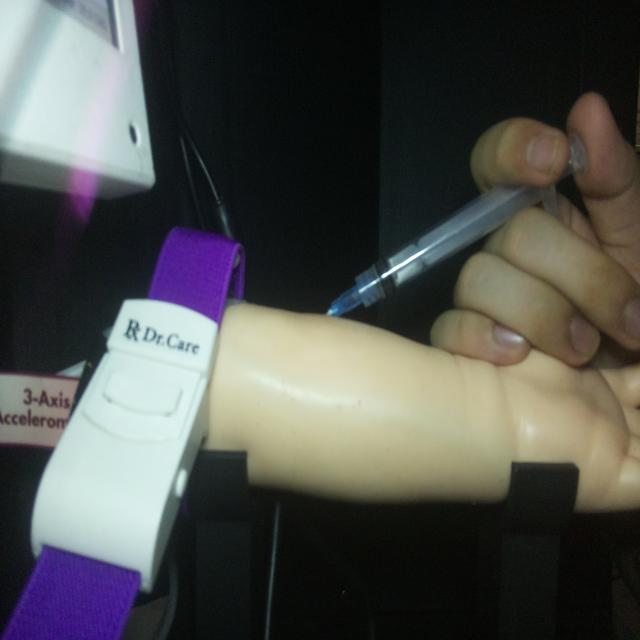26 degrees: (323, 130, 588, 320)
